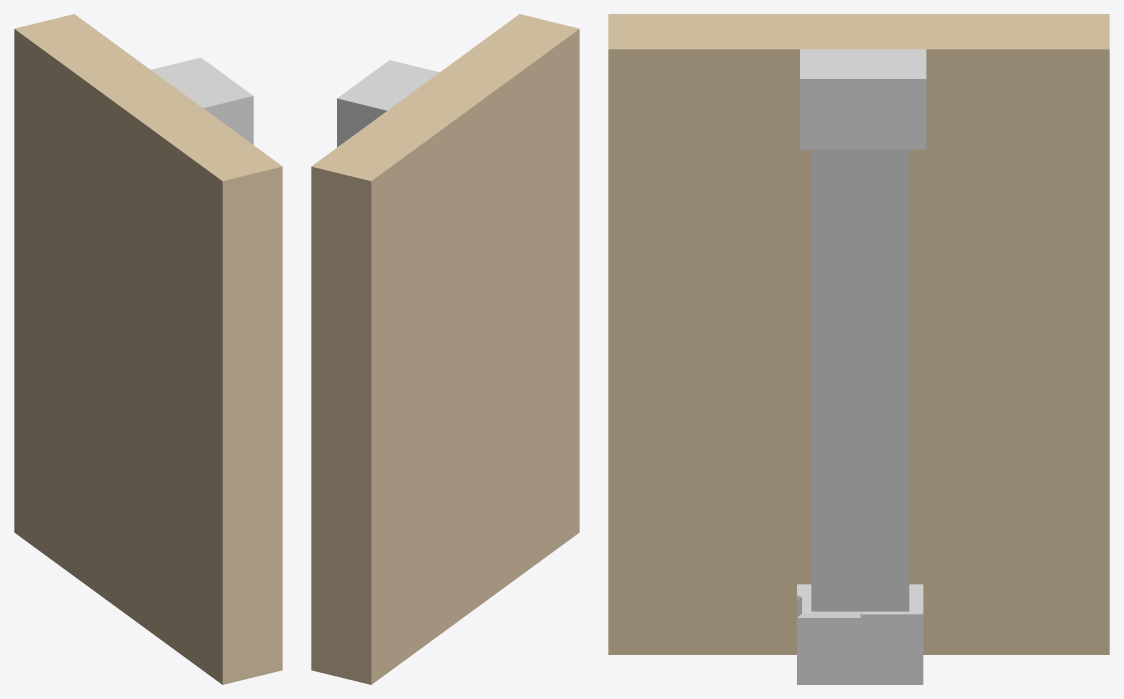
Rendered from WallColumnB.fbx.
3 views of the same model, side by side, from view 1: azimuth 30°, elevation 25°; view 2: azimuth 150°, elevation 25°; view 3: azimuth 270°, elevation 25° (orthographic). The views are drawn at different scales.
Visible parts, largest first — view 1: WallColumnB; view 2: WallColumnB; view 3: WallColumnB.
Boxes of the visible parts, box(x1,y1,x2,y2) form: WallColumnB: box(14, 14, 282, 684); WallColumnB: box(311, 14, 579, 684); WallColumnB: box(608, 14, 1109, 684).
Bounding box in the file's own units: 56.24 × 183 × 244.
